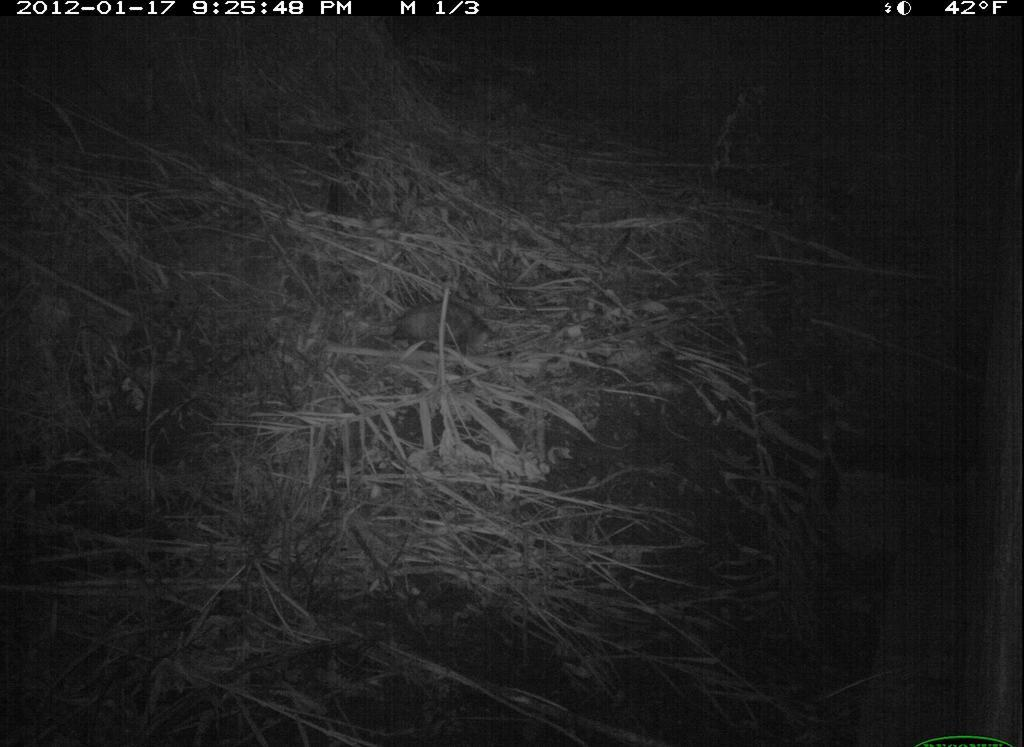opossum: (370, 282, 501, 368)
